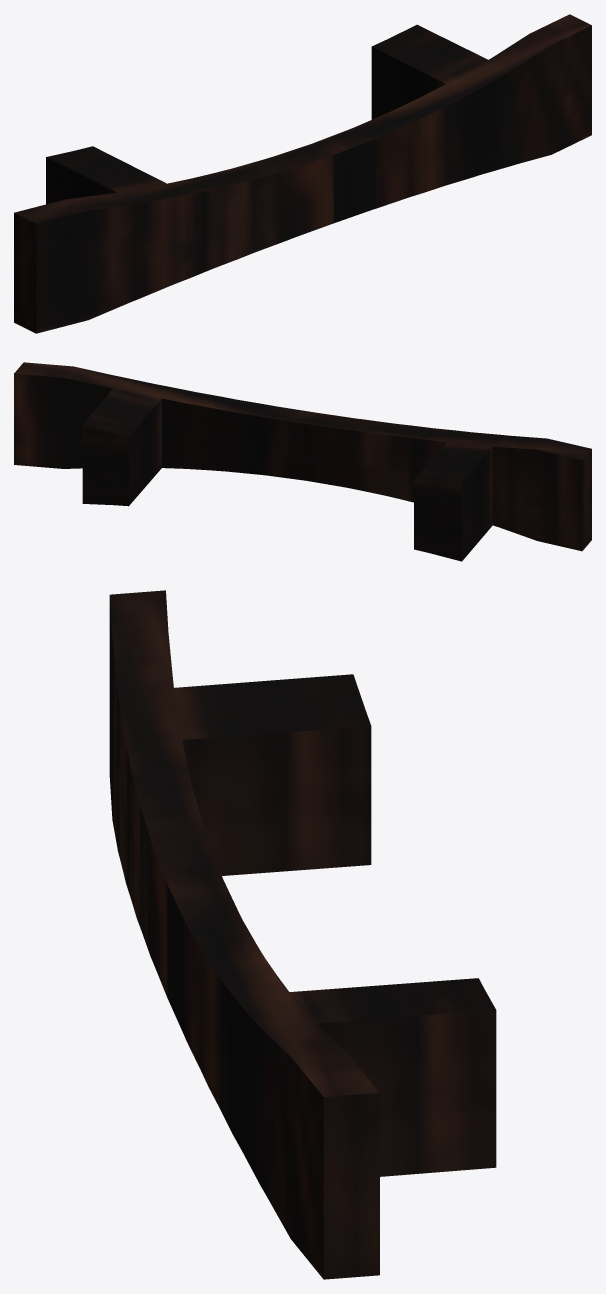
The model's file is original-40.obj.
3 renders of one model, top to bottom at view 1: azimuth 30°, elevation 25°; view 2: azimuth 150°, elevation 25°; view 3: azimuth 270°, elevation 25°, orthographic. The views are drawn at different scales.
Parts seen in each view (by area): view 1: Handle1/Handle/mesh92/mesh92-geometry#mesh92-geometry; view 2: Handle1/Handle/mesh92/mesh92-geometry#mesh92-geometry; view 3: Handle1/Handle/mesh92/mesh92-geometry#mesh92-geometry.
Part boxes in pixels (x1,y1,x2,y2): Handle1/Handle/mesh92/mesh92-geometry#mesh92-geometry: (14, 14, 591, 333); Handle1/Handle/mesh92/mesh92-geometry#mesh92-geometry: (14, 362, 591, 561); Handle1/Handle/mesh92/mesh92-geometry#mesh92-geometry: (109, 590, 496, 1279).
Bounding box in the file's own units: 0.0883 × 0.0148 × 0.0284.
Materials: 1 (1 with a texture image).
